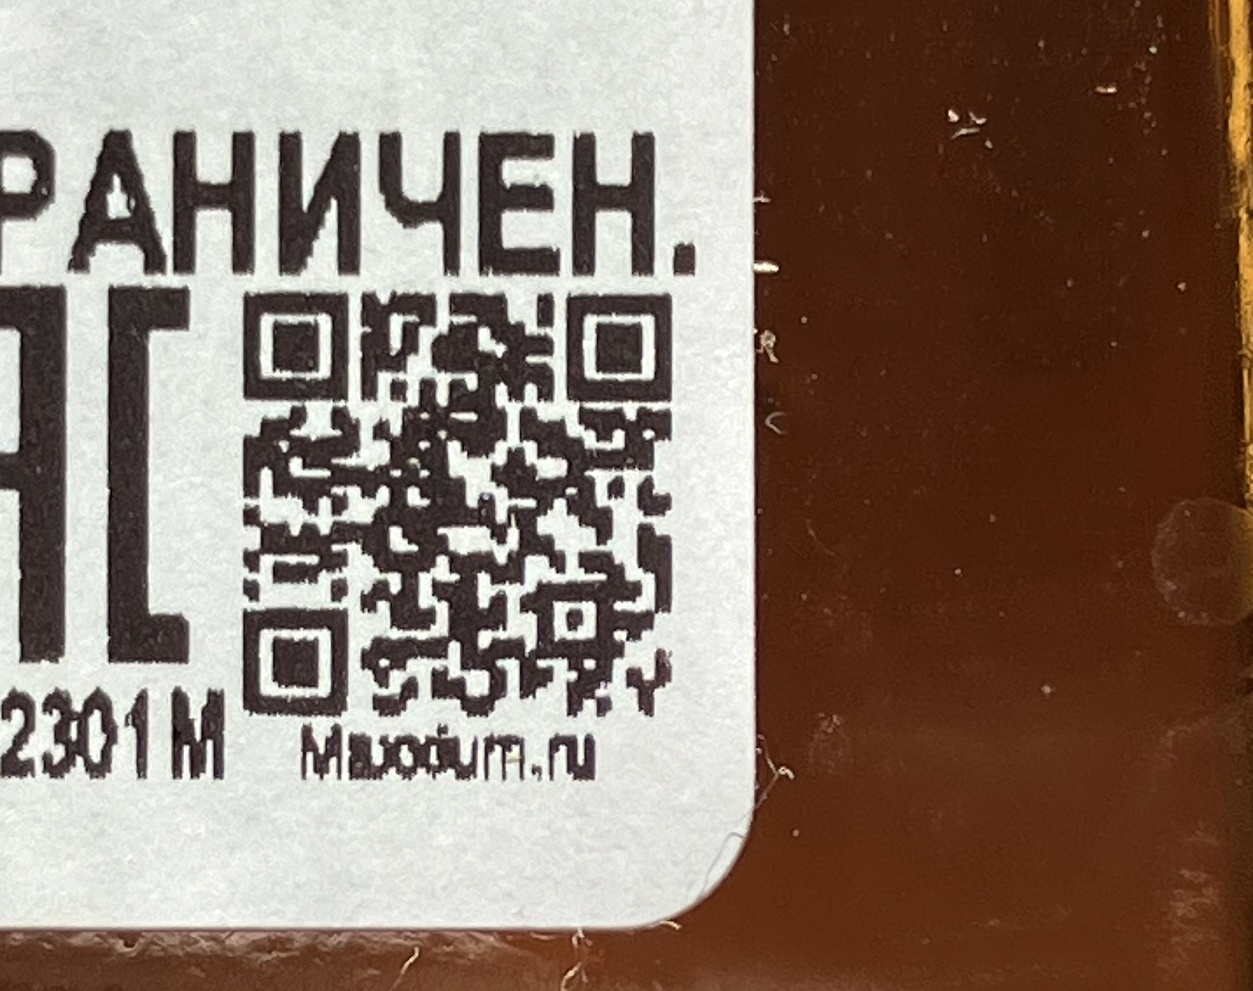2d: (244, 294, 671, 713)
